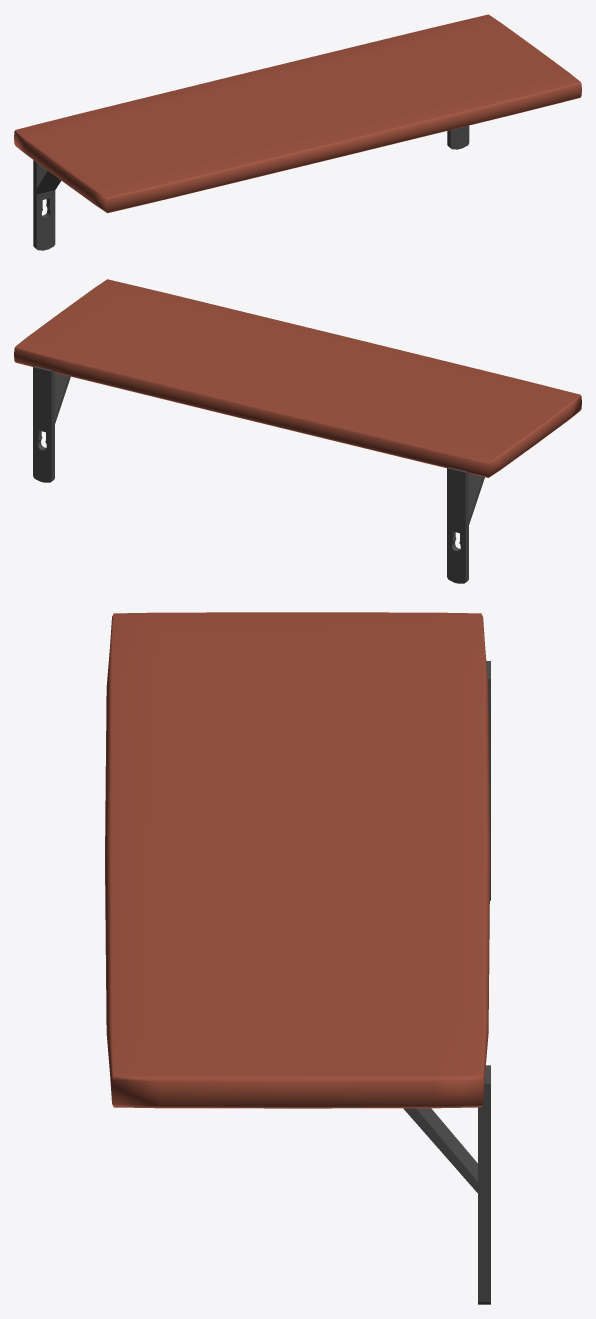
The model's file is Shelf_a.fbx.
3 renders of one model, top to bottom at view 1: azimuth 30°, elevation 25°; view 2: azimuth 150°, elevation 25°; view 3: azimuth 270°, elevation 25°, orthographic. The views are drawn at different scales.
Parts seen in each view (by area): view 1: Cube.001; view 2: Cube.001; view 3: Cube.001.
Part boxes in pixels (<box>): Cube.001: <box>14,14,581,250</box>; Cube.001: <box>14,279,581,583</box>; Cube.001: <box>105,612,490,1304</box>.
Size of the model in its own units: 931 by 235 by 324.
